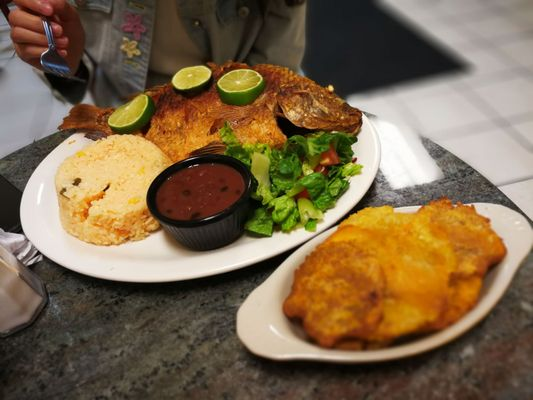curry: (244, 132, 365, 236)
sushi: (147, 149, 252, 252), (216, 66, 266, 106)
